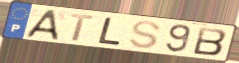9: (165, 24, 193, 54)
A: (24, 10, 61, 42)
B: (191, 26, 228, 57)
L: (96, 16, 123, 47)
S: (127, 20, 163, 50)
T: (69, 13, 95, 43)
